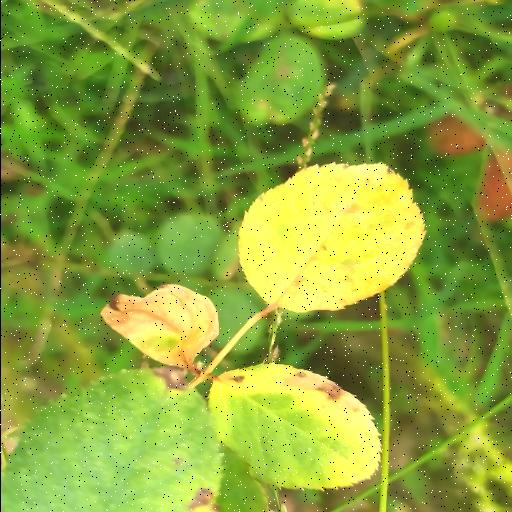healthy_leaf: (0, 368, 220, 512)
red_mite: (238, 162, 424, 312)
thrip: (208, 364, 380, 489), (100, 284, 218, 366)
